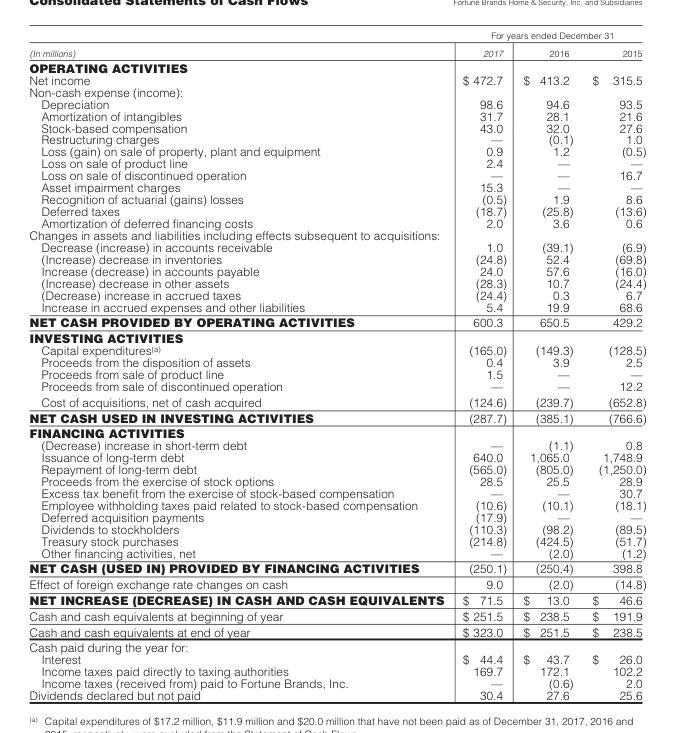table: (28, 29, 645, 702)
table column: (28, 29, 452, 702), (514, 29, 582, 702), (582, 29, 645, 702), (452, 29, 514, 702)
table column header: (28, 29, 645, 59)
table projected row header: (28, 59, 645, 73), (28, 329, 645, 343), (28, 424, 645, 438), (28, 639, 645, 652), (28, 85, 645, 97), (28, 228, 645, 240)
table row: (28, 43, 645, 59), (28, 393, 645, 409), (28, 560, 645, 576), (28, 591, 645, 607), (28, 607, 645, 623), (28, 623, 645, 639), (28, 314, 645, 329), (28, 409, 645, 424), (28, 576, 645, 591), (28, 29, 645, 43), (28, 59, 645, 73), (28, 300, 645, 314), (28, 329, 645, 343), (28, 379, 645, 393), (28, 424, 645, 438), (28, 546, 645, 560), (28, 688, 645, 702), (28, 639, 645, 652), (28, 73, 645, 85), (28, 85, 645, 97), (28, 97, 645, 109), (28, 109, 645, 121), (28, 121, 645, 133), (28, 133, 645, 145), (28, 145, 645, 157), (28, 157, 645, 169), (28, 180, 645, 192), (28, 192, 645, 204), (28, 204, 645, 216), (28, 216, 645, 228), (28, 228, 645, 240), (28, 240, 645, 252), (28, 252, 645, 264), (28, 264, 645, 276), (28, 276, 645, 288), (28, 288, 645, 300), (28, 343, 645, 355), (28, 355, 645, 367), (28, 367, 645, 379), (28, 438, 645, 450), (28, 450, 645, 462), (28, 462, 645, 474), (28, 474, 645, 486), (28, 486, 645, 498), (28, 498, 645, 510), (28, 510, 645, 522), (28, 522, 645, 534), (28, 534, 645, 546), (28, 652, 645, 664), (28, 664, 645, 676), (28, 676, 645, 688), (28, 169, 645, 180)
table spanning cell: (28, 29, 452, 59), (452, 29, 645, 43)
